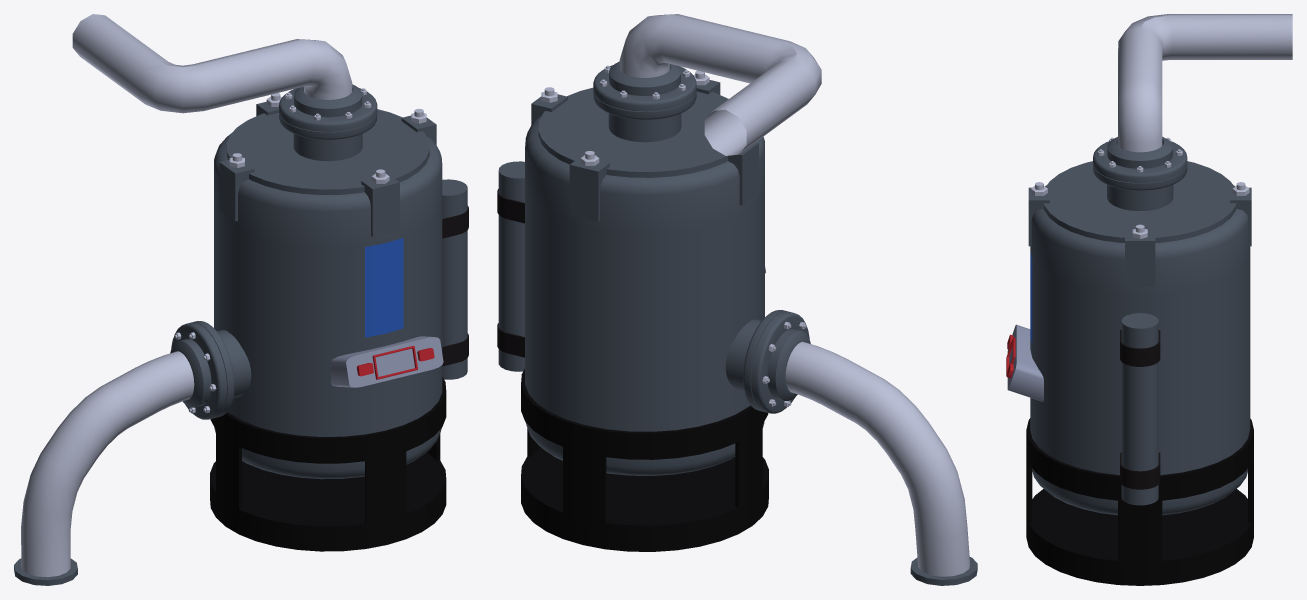
Rendered from MM_Water_Pump.fbx.
3 views of the same model, side by side, from view 1: azimuth 30°, elevation 25°; view 2: azimuth 150°, elevation 25°; view 3: azimuth 270°, elevation 25° (orthographic). The views are drawn at different scales.
Parts seen in each view (by area): view 1: Water_Pump; view 2: Water_Pump; view 3: Water_Pump.
Boxes of the visible parts, x1,y1,x2,y2 form: Water_Pump: (14, 14, 468, 585); Water_Pump: (497, 14, 977, 585); Water_Pump: (1006, 14, 1292, 585).
Size of the model in its own units: 289 by 288 by 166.
